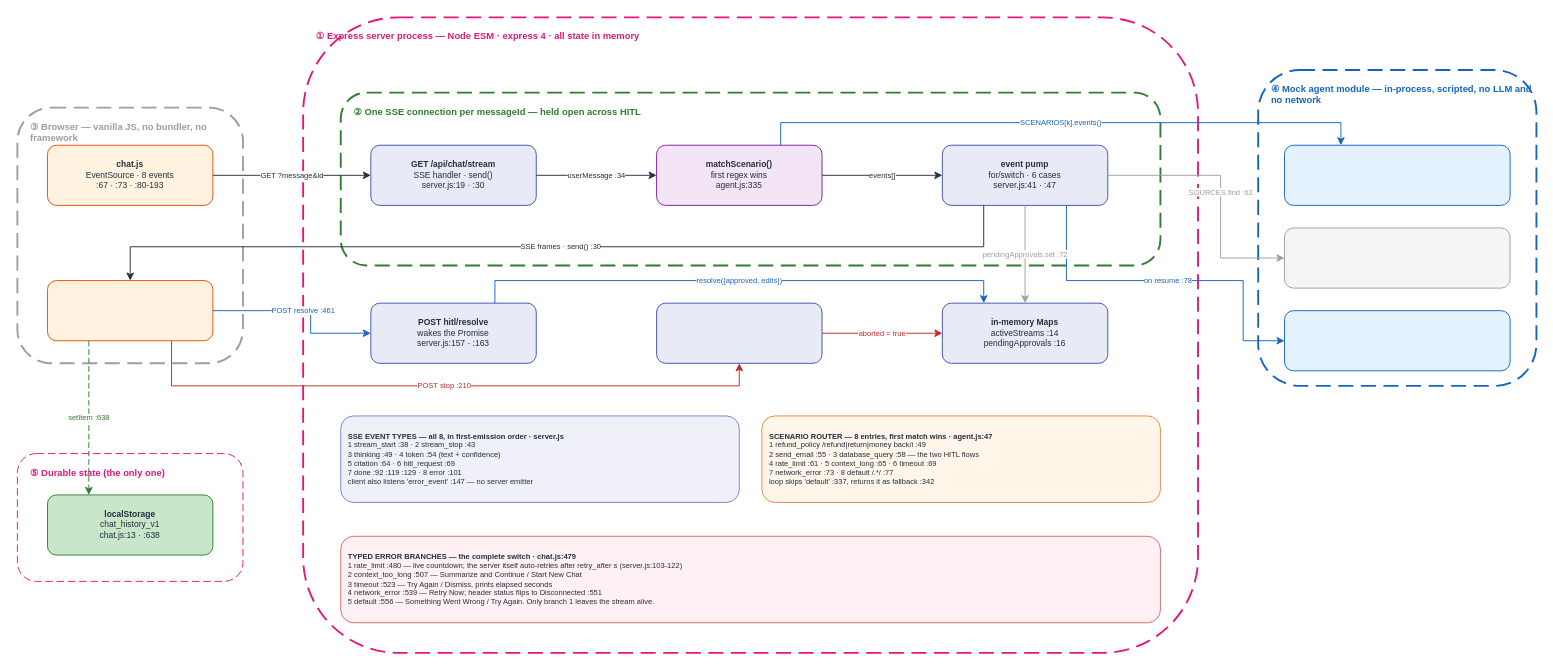
Some shapes in this 1553 by 669 pixel diagram are drawn without their labels. The shapes that lost their labels are listed below. From the top down, each one's box as (x1, y1, x2, y2) in pixels, then its label:
(1284, 144, 1510, 205): SCENARIOS — 8 builders scripted arrays · no LLM call agent.js:47 · :82-300
(1284, 227, 1510, 288): SOURCES — 5 mock docs title · url · passage agent.js:9 · no network
(47, 280, 213, 341): Trust renderers confidence :246 citation :279 hitl :344 error cards :472
(656, 302, 822, 363): POST chat/stop sets aborted = true server.js:145 · :149
(1284, 310, 1510, 371): getHITLContinuation() approved / rejected branches agent.js:348 · :163 · :205
